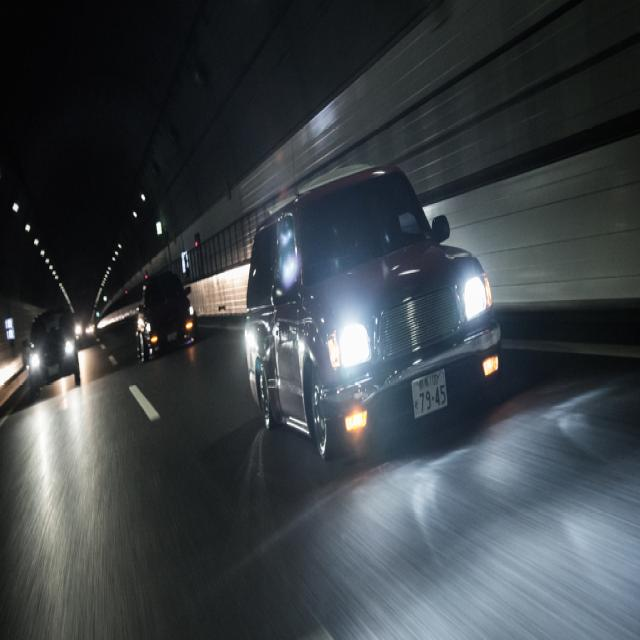car: (243, 153, 485, 450), (130, 271, 201, 364), (19, 304, 81, 384)
